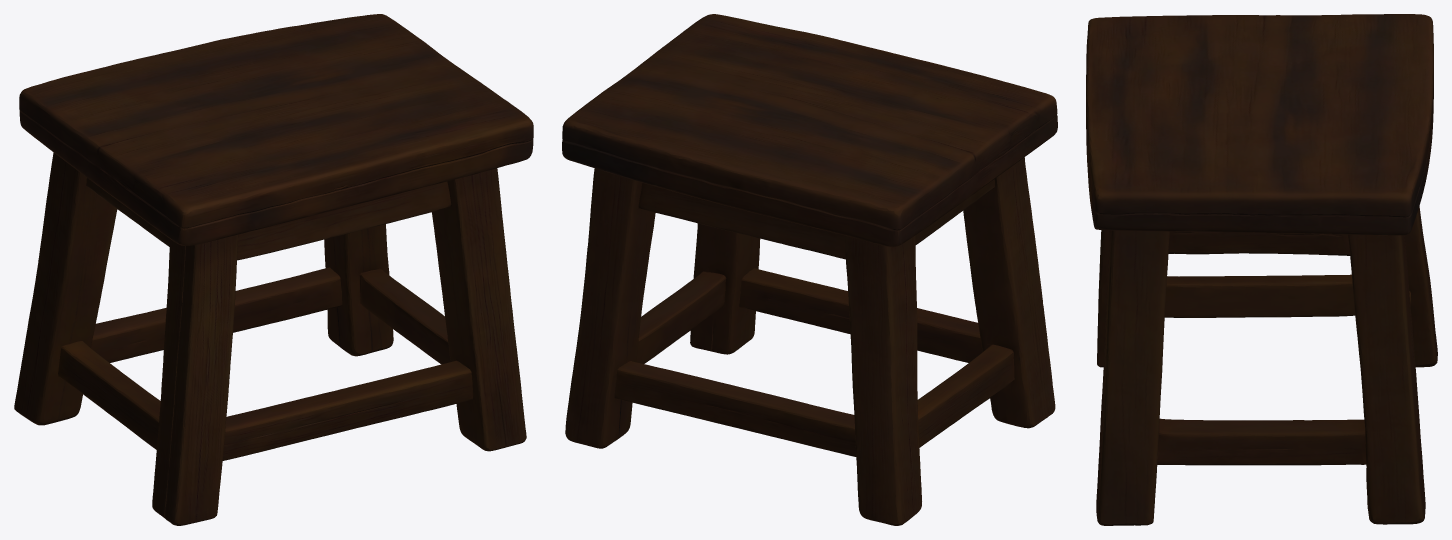
File: lod_basic_pbr.fbx
The picture shows the model from 3 angles, left to right: view 1: azimuth 30°, elevation 25°; view 2: azimuth 150°, elevation 25°; view 3: azimuth 270°, elevation 25°; orthographic projection. The views are drawn at different scales.
Parts seen in each view (by area): view 1: model_LOD0; view 2: model_LOD0; view 3: model_LOD0.
Boxes of the visible parts, x1,y1,x2,y2 form: model_LOD0: (14,14,533,525); model_LOD0: (562,14,1057,525); model_LOD0: (1086,14,1437,525).
Size of what is drawn, in the model's own units: 190 by 164 by 154.
1 material, 1 textured.
